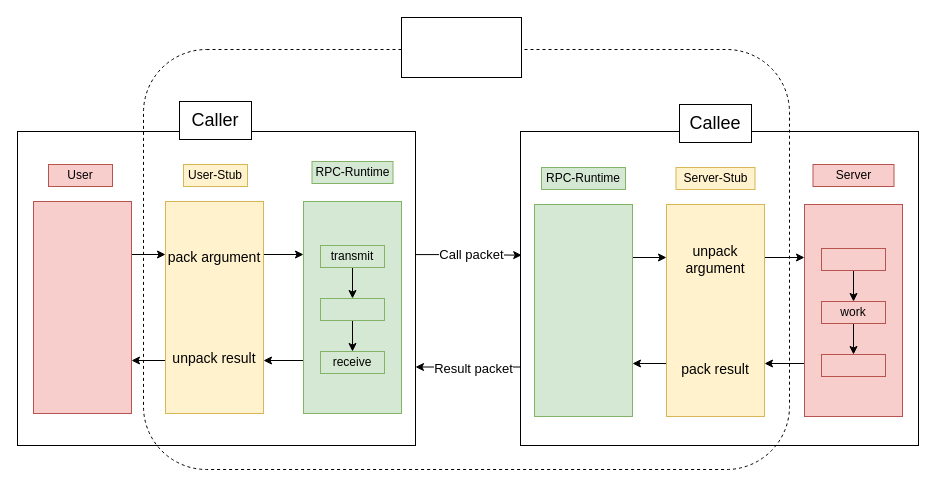
Image size: 936x487. Some labels were removed from this diagram. Each missing label, with the box of its shape:
call: (820, 248, 886, 270)
local call local return: (32, 200, 132, 414)
receive transmit: (534, 204, 632, 416)
return: (820, 354, 886, 376)
RPC框架: (400, 16, 522, 78)
wait: (320, 298, 384, 320)
